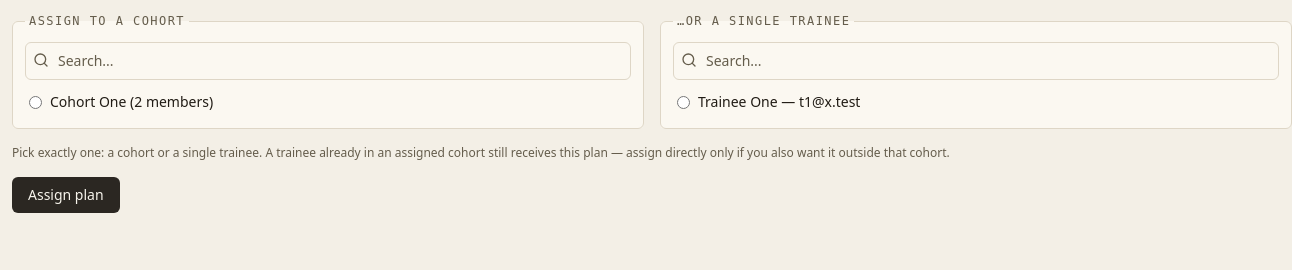
Assign form › refuses to submit with both a cohort and a trainee selected
// Wait for both pickers to load their options.
Click the radio button labelled "Cohort One (2 members)". click: click(36, 102)
box: [29, 96, 42, 108]
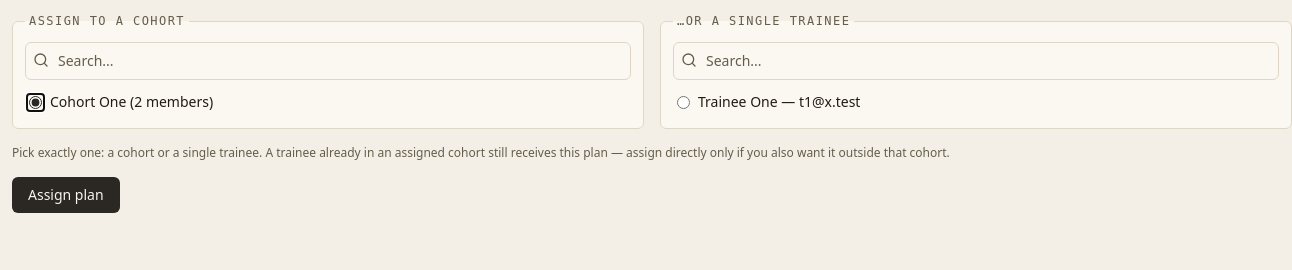
Click the radio button labelled "Trainee One — t1@x.test". click: click(684, 102)
box: [677, 96, 690, 108]
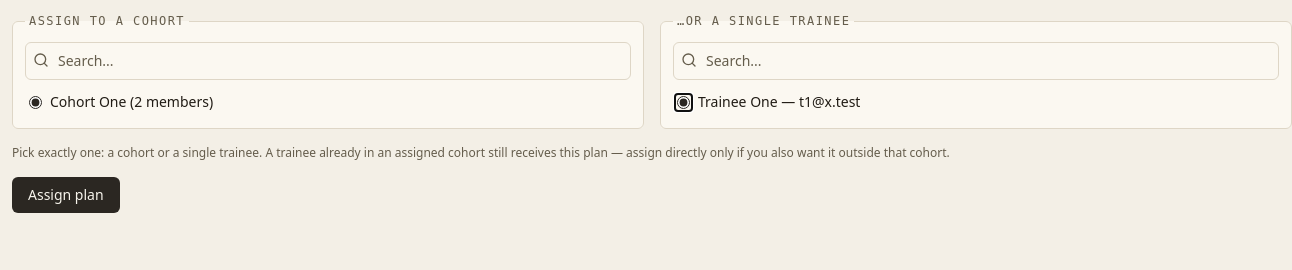
Click the button "Assign plan". click: click(66, 195)
box: [12, 177, 120, 213]
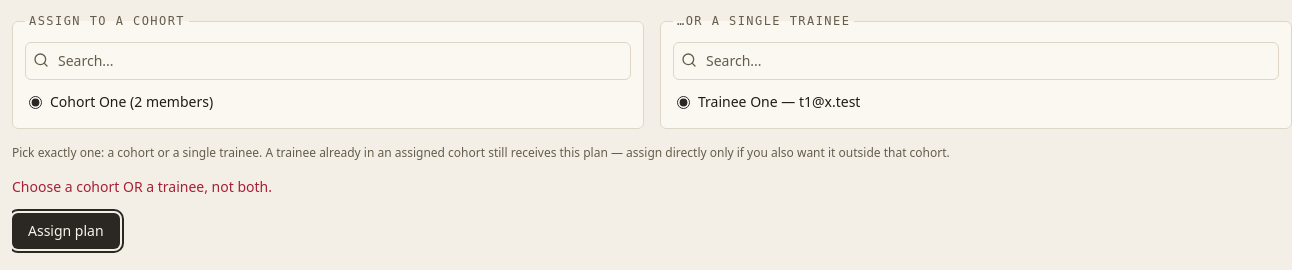
Check: the text "Choose a cohort OR a trainee, not both." is shown, box [12, 177, 272, 196]
